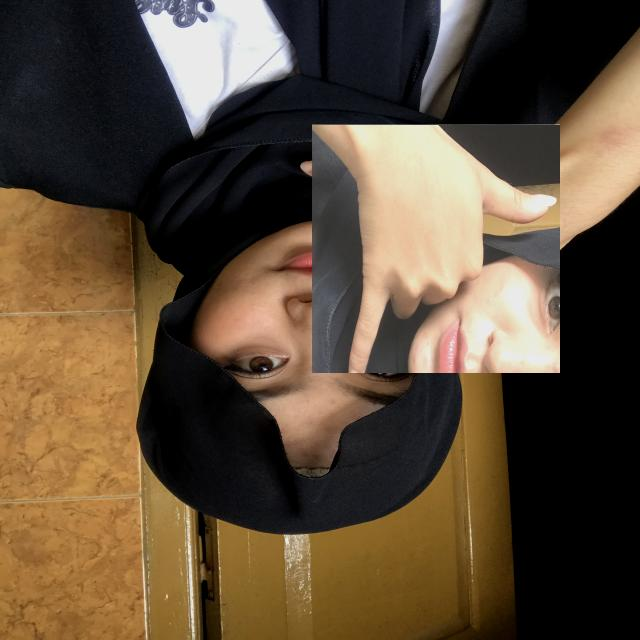telpon: (312, 124, 560, 373)
